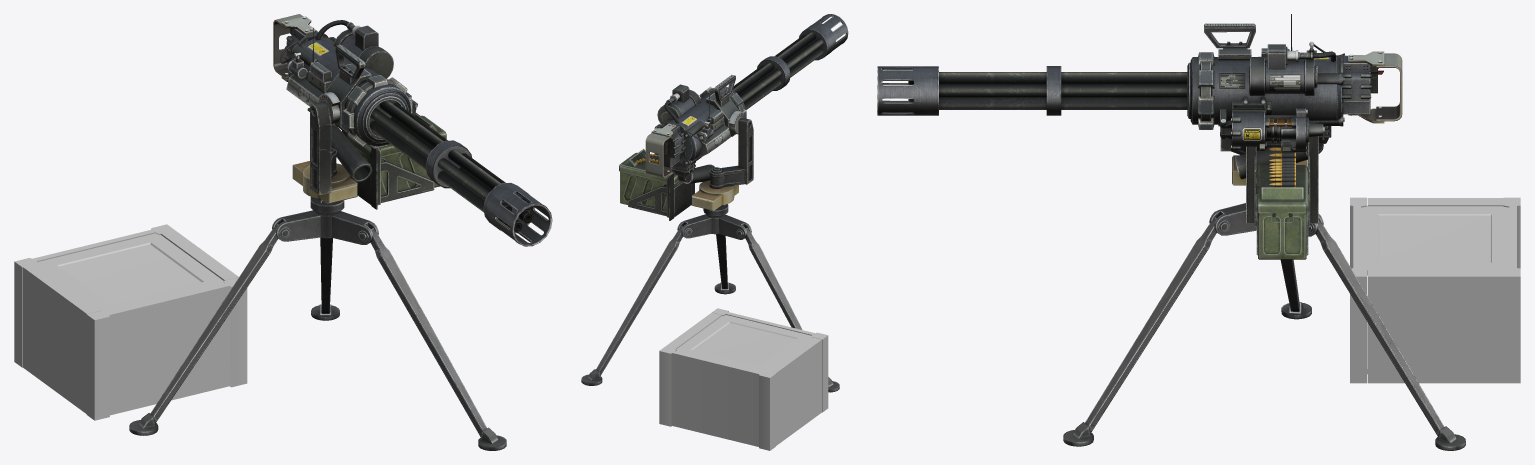
Rendered from ZOMBIE_SUPPORT_AutoTurret.fbx.
3 views of the same model, side by side, from view 1: azimuth 30°, elevation 25°; view 2: azimuth 150°, elevation 25°; view 3: azimuth 270°, elevation 25° (orthographic). The views are drawn at different scales.
Visible parts, largest first — view 1: polySurface2, Body.002, ChanDe, Body.003, Body; view 2: polySurface2, Body.002, ChanDe, Body.003, Body; view 3: Body.002, polySurface2, ChanDe, Body.003.
Boxes of the visible parts, box(x1,y1,x2,y2) form: polySurface2: box(14, 224, 247, 420); Body.002: box(273, 14, 552, 246); ChanDe: box(129, 197, 506, 450); Body.003: box(342, 112, 446, 209); Body: box(292, 101, 357, 204); polySurface2: box(659, 308, 828, 450); Body.002: box(645, 14, 848, 183); ChanDe: box(581, 204, 839, 392); Body.003: box(619, 149, 694, 220); Body: box(692, 117, 753, 210); Body.002: box(877, 14, 1402, 179); polySurface2: box(1350, 197, 1520, 383); ChanDe: box(1063, 203, 1465, 450); Body.003: box(1246, 136, 1318, 259).
Bounding box in the file's own units: 1.37 × 1.55 × 2.32.
